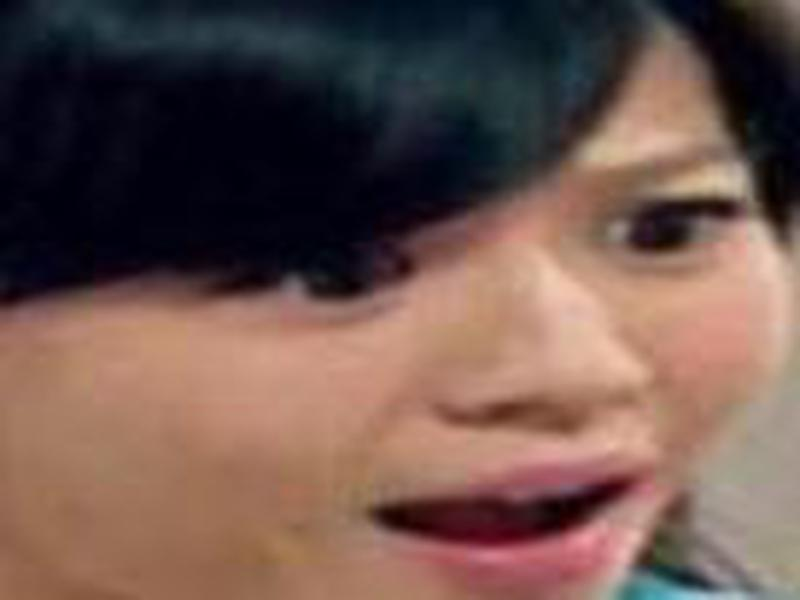without_mask: (25, 34, 783, 600)
